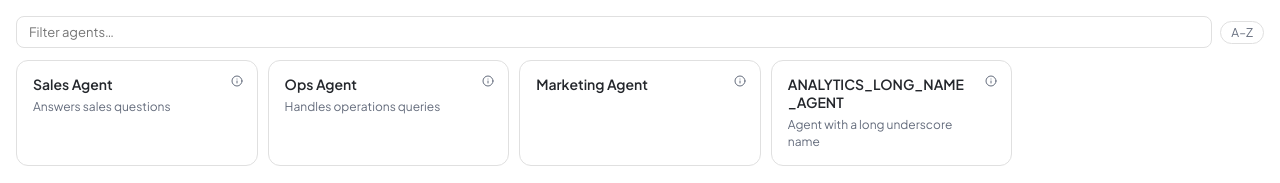
Test: AgentsView › filters agents by display name
This screenshot has width=1280, height=183.
Type "sales" into the search field labelled "Filter agents". click: [614, 32]
box: [16,16,1212,48]
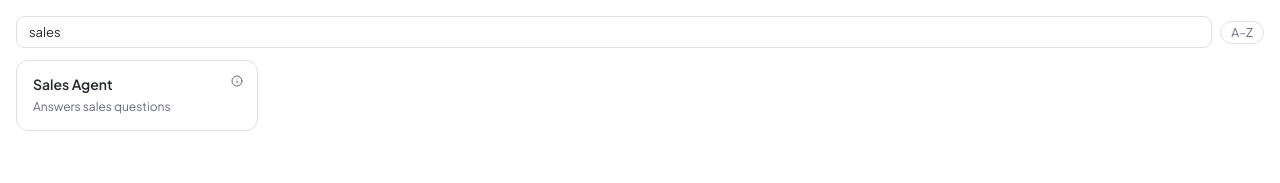
Expected: the text "Sales Agent" is shown, [33,75,113,93]
Expected: the button "Ops Agent" is gone
Expected: the button "Marketing Agent" is gone
